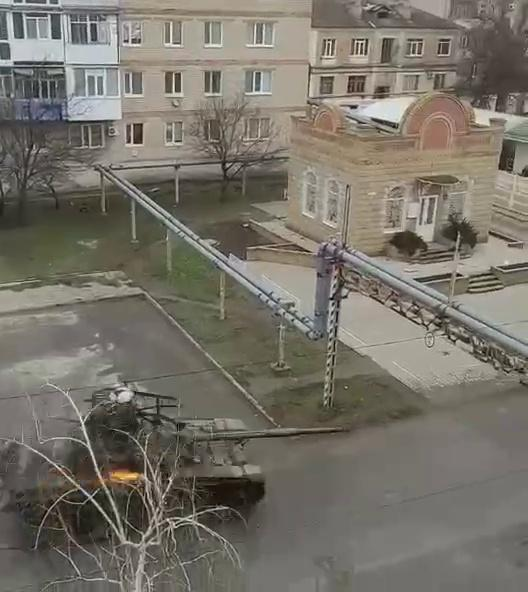tank: (0, 385, 352, 539)
